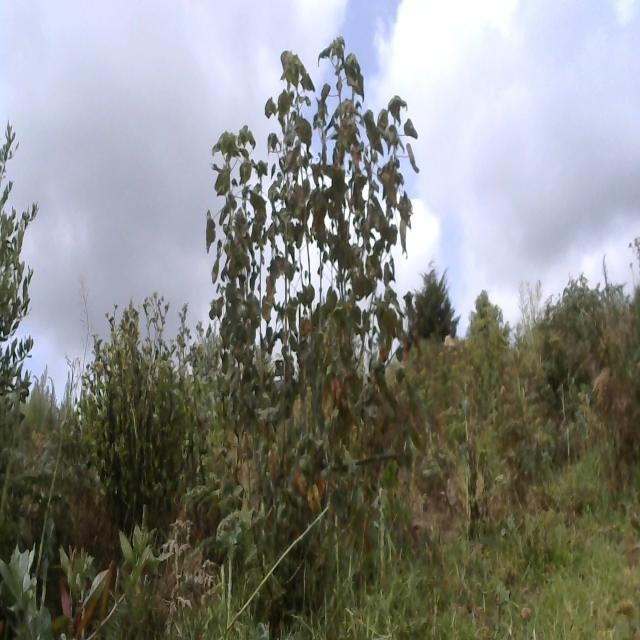Salix alba: (0, 117, 46, 451)
cedrus: (413, 263, 462, 344)
other: (207, 47, 420, 521), (75, 308, 202, 521)
